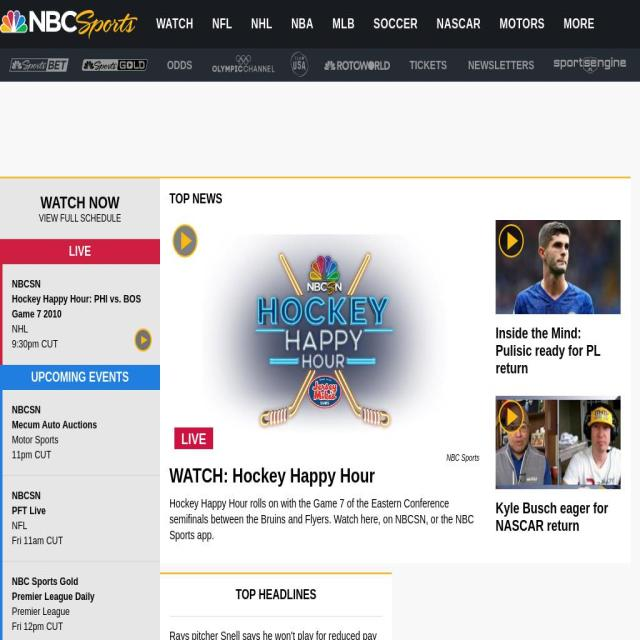button: (169, 220, 480, 453), (169, 495, 480, 543), (496, 220, 620, 314), (496, 395, 620, 489), (169, 463, 480, 488), (496, 324, 620, 378), (0, 0, 137, 48), (496, 500, 620, 535), (490, 0, 555, 48), (363, 0, 427, 48), (427, 0, 491, 48), (458, 48, 544, 82), (0, 194, 160, 211), (147, 0, 203, 48), (170, 628, 382, 640), (281, 0, 323, 48), (322, 0, 364, 48), (400, 48, 457, 82), (202, 0, 242, 48), (241, 0, 281, 48), (0, 214, 160, 224), (158, 48, 202, 82), (211, 54, 275, 74), (553, 56, 626, 72), (82, 59, 148, 72), (10, 58, 70, 72), (324, 61, 390, 73), (290, 52, 309, 76)
field: (353, 86, 560, 117)
heading: (169, 178, 622, 220), (496, 324, 600, 377), (169, 463, 375, 487), (496, 500, 608, 534)
image: (169, 220, 480, 453), (496, 220, 620, 314), (496, 395, 620, 489), (0, 10, 138, 39), (553, 57, 626, 74), (211, 54, 275, 73), (82, 59, 148, 73), (10, 58, 70, 72), (499, 399, 521, 430), (173, 224, 195, 254), (499, 224, 521, 254), (324, 61, 390, 70), (290, 52, 309, 76), (134, 328, 150, 348)
label: (312, 95, 350, 108)
text: (398, 571, 630, 640), (160, 573, 392, 616), (0, 86, 640, 97), (12, 292, 152, 322), (0, 239, 160, 264), (553, 0, 604, 48), (12, 276, 152, 292), (12, 402, 152, 418), (12, 432, 152, 448), (12, 488, 152, 504), (12, 518, 152, 534), (12, 574, 152, 589), (12, 589, 152, 604), (12, 604, 152, 619), (12, 322, 152, 336), (12, 418, 152, 432), (12, 504, 152, 518), (40, 193, 119, 212), (30, 370, 128, 384), (174, 427, 214, 449), (12, 534, 63, 547), (12, 620, 63, 632), (12, 338, 58, 350), (12, 448, 51, 461), (446, 453, 480, 462)
